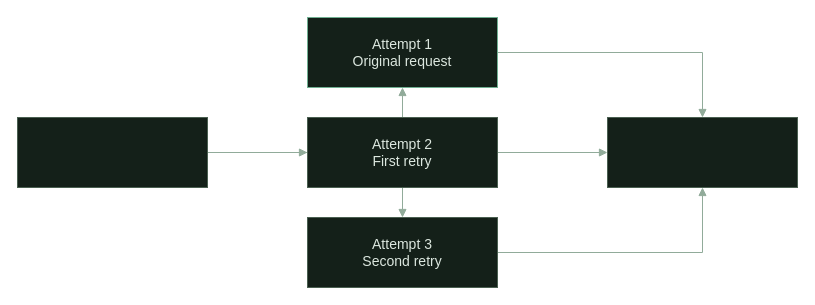
Some shapes in this 815 by 305 pixel diagram are drawn without their labels. The centre of each missing label's shape, as x and y in pixels:
"Dependency Receives 3 attempts" goes at (702,152).
"One logical request Caller retries on failure" goes at (112,152).
